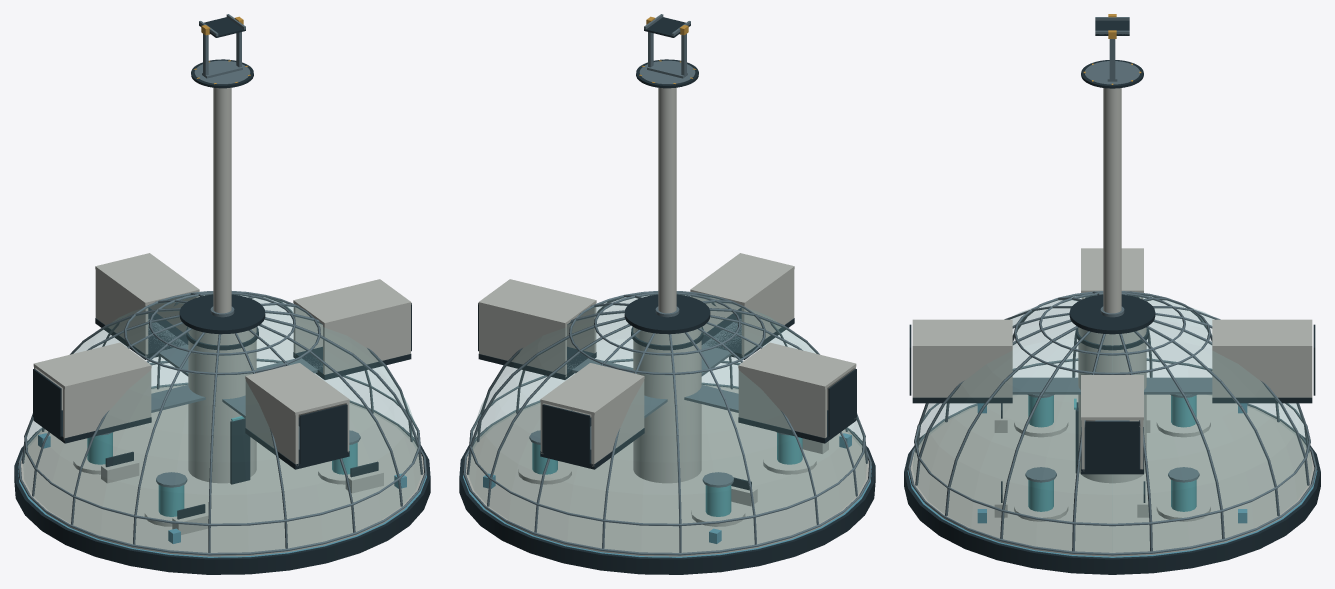
The model's file is research_d0_lod1.glb.
3 views of the same model, side by side, from view 1: azimuth 30°, elevation 25°; view 2: azimuth 150°, elevation 25°; view 3: azimuth 270°, elevation 25° (orthographic).
Visible parts, largest first — view 1: BODY, SHELL, PORT_CAP_N, PORT_CAP_W, FORK, CRADLE; view 2: BODY, SHELL, PORT_CAP_S, PORT_CAP_W, FORK, CRADLE; view 3: BODY, SHELL, PORT_CAP_E, CRADLE.
Boxes of the visible parts, x1,y1,x2,y2 form: BODY: [14, 59, 430, 574]; SHELL: [23, 295, 421, 552]; PORT_CAP_N: [299, 404, 347, 463]; PORT_CAP_W: [33, 369, 61, 436]; FORK: [201, 16, 243, 78]; CRADLE: [199, 14, 245, 37]; BODY: [459, 59, 875, 574]; SHELL: [468, 295, 866, 552]; PORT_CAP_S: [542, 404, 590, 463]; PORT_CAP_W: [828, 369, 856, 436]; FORK: [646, 16, 688, 78]; CRADLE: [644, 14, 690, 37]; BODY: [904, 60, 1320, 574]; SHELL: [913, 295, 1311, 552]; PORT_CAP_E: [1085, 421, 1139, 469]; CRADLE: [1095, 17, 1129, 35].
Bounding box in the file's own units: 29.2 × 35.85 × 29.2.
